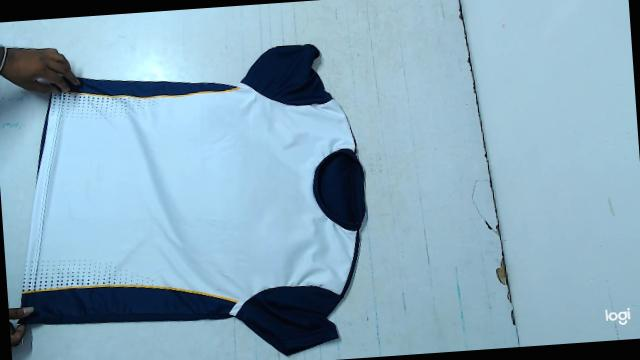new-garment: (21, 44, 365, 354)
